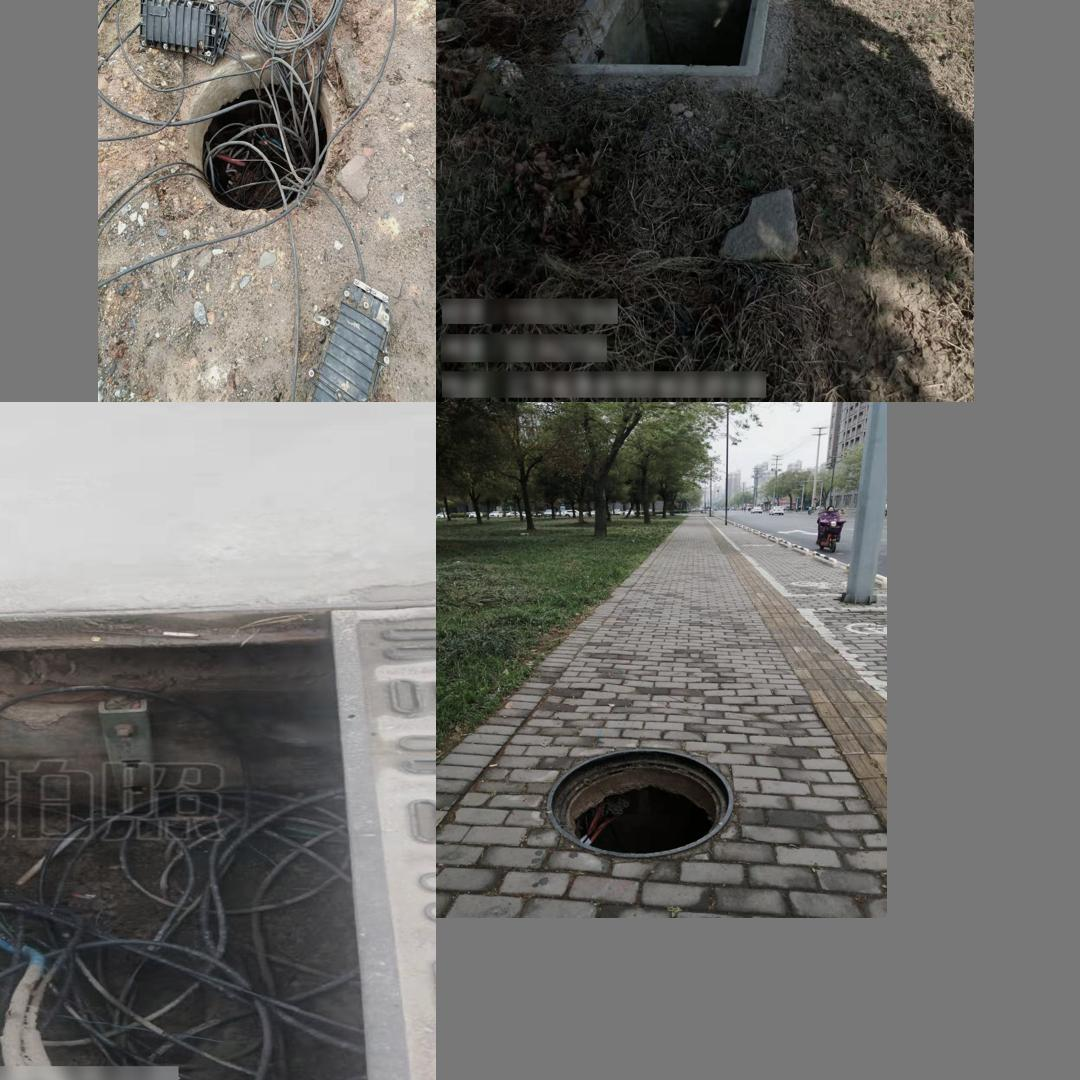lose: (0, 604, 436, 1080), (147, 31, 355, 241), (544, 746, 733, 856), (546, 0, 777, 80)
